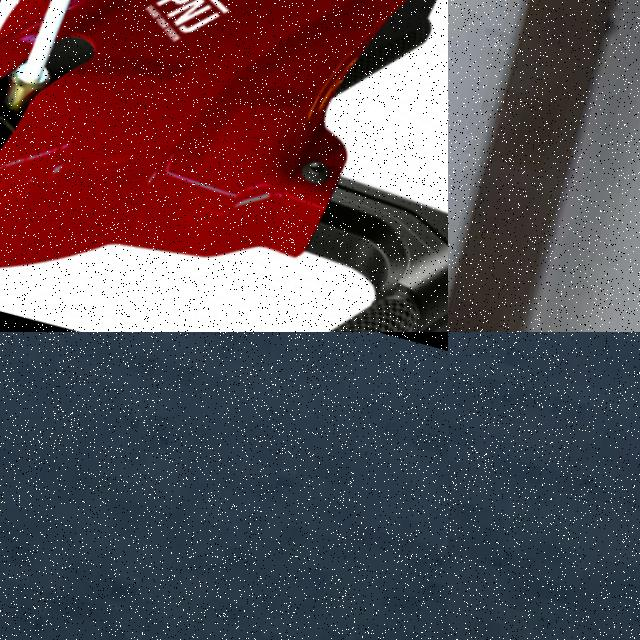drone: (0, 0, 448, 332)
